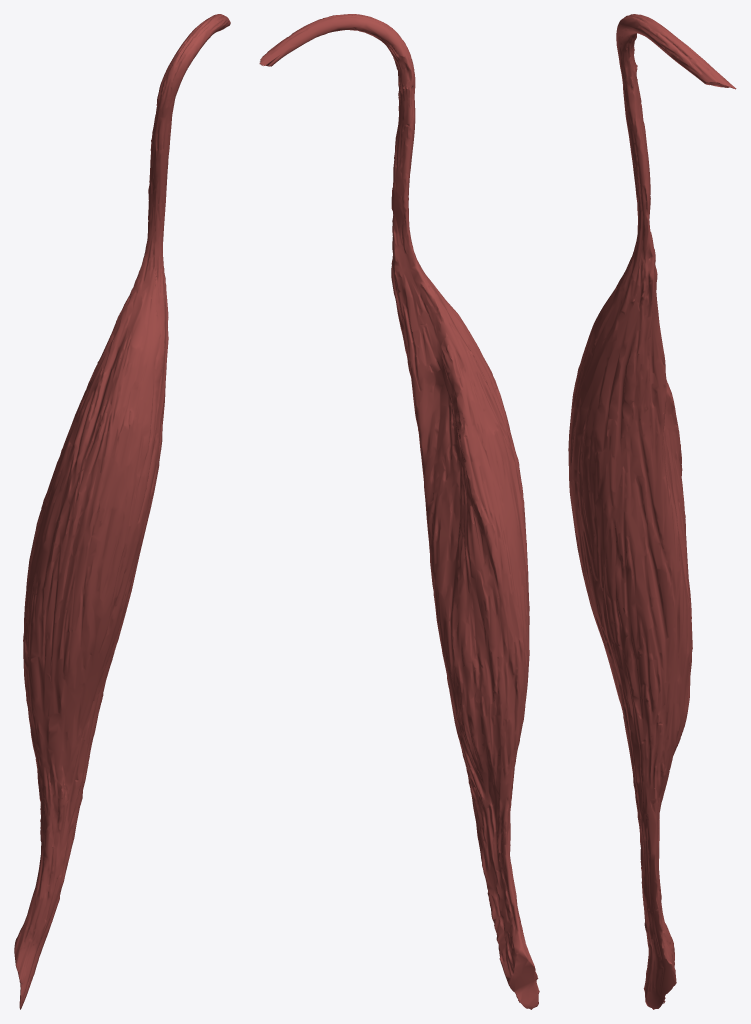
File: FMA37686.glb
3 renders of one model, left to right at view 1: azimuth 30°, elevation 25°; view 2: azimuth 150°, elevation 25°; view 3: azimuth 270°, elevation 25°, orthographic. The views are drawn at different scales.
Parts seen in each view (by area): view 1: FMA37686; view 2: FMA37686; view 3: FMA37686.
Part boxes in pixels (x1,y1,x2,y2): FMA37686: (14, 14, 230, 1009); FMA37686: (259, 14, 539, 1009); FMA37686: (568, 14, 736, 1009).
Bounding box in the file's own units: 0.0923 × 0.3458 × 0.0482.
